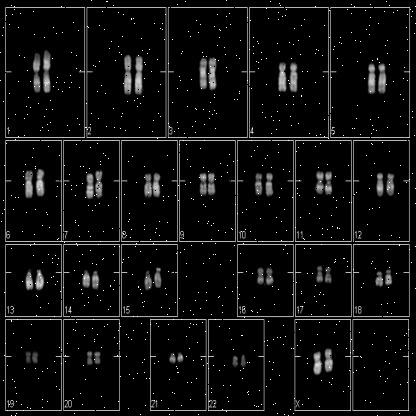1: (42, 48, 52, 96), (32, 50, 41, 94)
10: (264, 170, 274, 198), (254, 170, 263, 198)
11: (314, 169, 324, 197), (324, 170, 332, 196)
12: (386, 172, 396, 197), (376, 171, 384, 199)
13: (34, 267, 45, 292), (24, 266, 34, 291)
14: (90, 269, 100, 292), (80, 269, 90, 289)
15: (153, 266, 162, 290), (144, 269, 153, 292)
16: (266, 266, 274, 288), (256, 267, 265, 286)
17: (324, 266, 332, 286), (316, 264, 323, 284)
18: (374, 270, 384, 289), (384, 266, 392, 286)
19: (30, 350, 39, 364), (24, 350, 31, 364)
2: (134, 53, 144, 97), (123, 54, 133, 96)
20: (86, 350, 94, 366), (94, 350, 102, 365)
21: (168, 350, 176, 364), (177, 350, 184, 364)
22: (240, 353, 247, 369), (232, 353, 238, 368)
3: (198, 56, 208, 92), (208, 58, 217, 92)
4: (288, 61, 299, 94), (278, 61, 287, 94)
5: (366, 60, 378, 96), (376, 62, 388, 95)
6: (24, 169, 34, 199), (36, 167, 44, 198)
7: (84, 171, 95, 200), (96, 168, 104, 201)
8: (152, 171, 161, 199), (144, 171, 152, 199)
9: (207, 171, 216, 197), (199, 171, 207, 199)
X: (324, 346, 334, 374), (313, 350, 322, 376)
